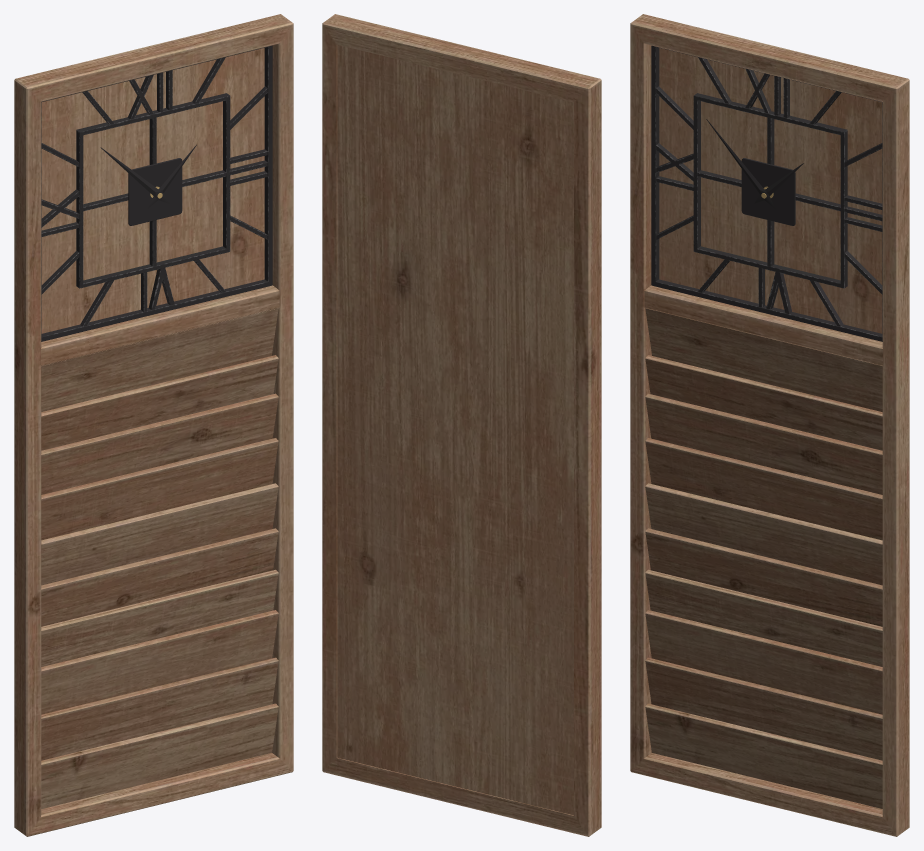
The picture shows the model from 3 angles, left to right: view 1: azimuth 30°, elevation 25°; view 2: azimuth 150°, elevation 25°; view 3: azimuth 330°, elevation 25°; orthographic projection.
Visible parts, largest first — view 1: RootNode; view 2: RootNode; view 3: RootNode.
Part boxes in pixels (bbox=[...]): RootNode: bbox=[14, 14, 293, 836]; RootNode: bbox=[322, 14, 601, 836]; RootNode: bbox=[630, 14, 909, 836].
Bounding box in the file's own units: 0.3606 × 0.9652 × 0.0305.
1 material, 1 textured.
